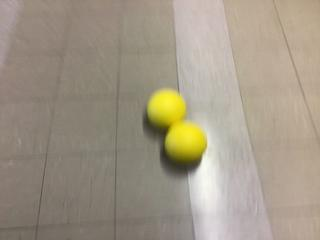power_cell: (163, 122, 209, 165), (144, 88, 189, 129)
